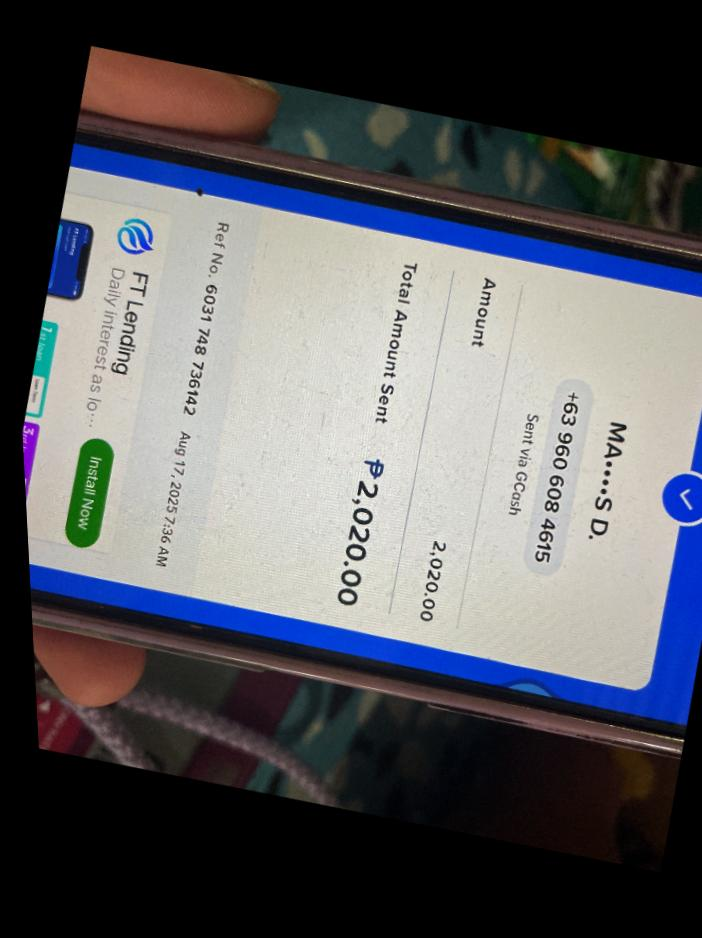Receipt: (22, 138, 702, 725)
